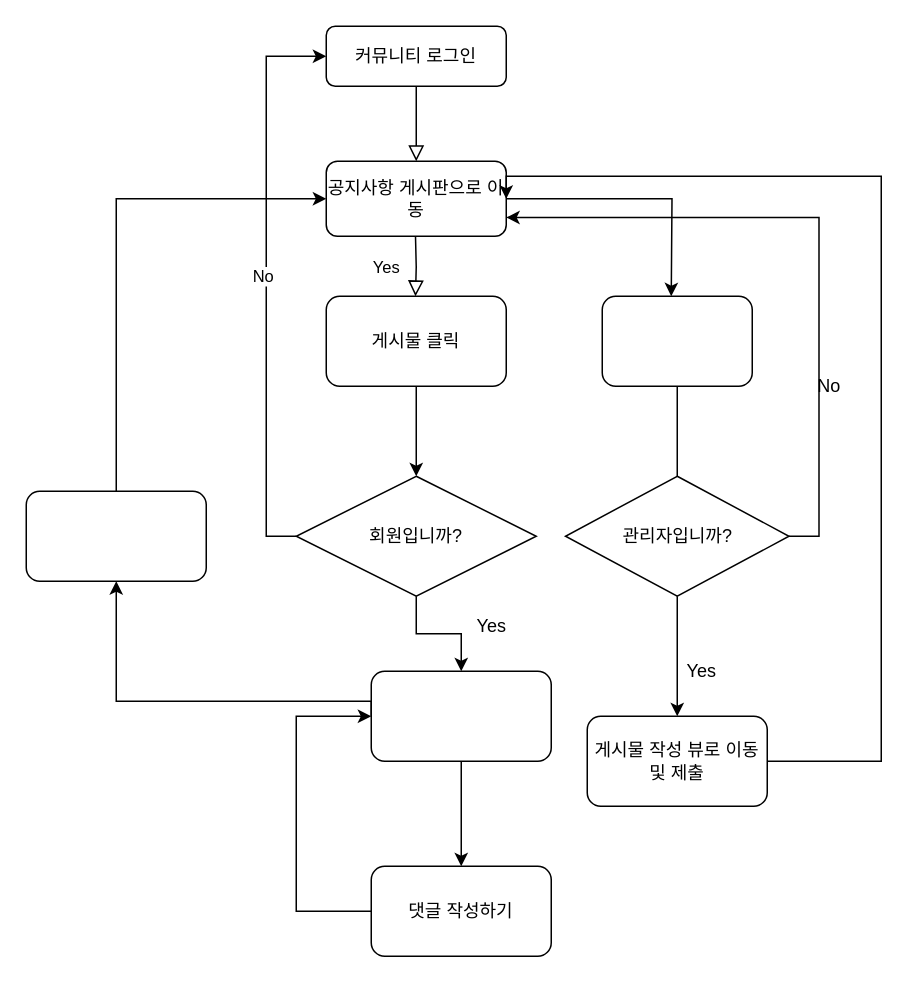
Some shapes in this 920 by 983 pixel diagram are drawn without their labels. The shapes that lost their labels are listed below. From the top down, each one's centre as x and y in pixels, then its label:
At point 676,340: "게시물 작성".
At point 115,535: "글 목록버튼 누르기".
At point 460,715: "공지사항 게시물 뷰로 이동".
